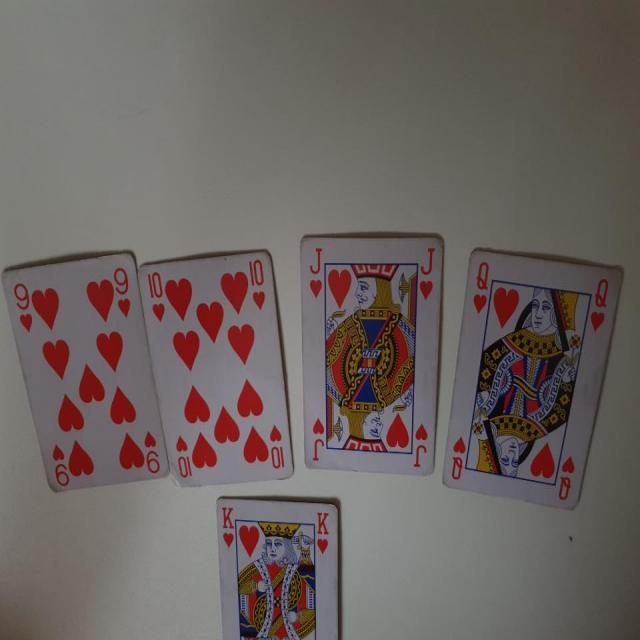10 of hearts: (136, 245, 296, 498)
9 of hearts: (0, 236, 184, 500)
jack of hearts: (293, 215, 448, 486)
king of hearts: (212, 489, 346, 640)
queen of hearts: (428, 242, 631, 514)
